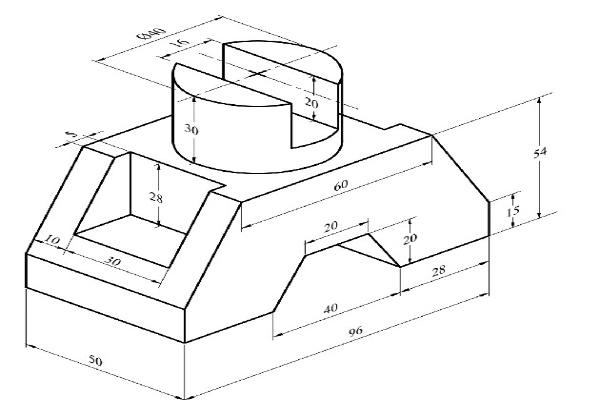dimensions: (127, 20, 175, 42), (340, 322, 370, 346), (78, 350, 113, 369), (314, 299, 345, 319), (428, 261, 453, 283), (99, 252, 125, 271), (503, 204, 528, 223), (56, 124, 82, 142), (143, 188, 166, 208), (529, 144, 551, 164), (166, 37, 193, 53), (331, 178, 356, 195), (318, 219, 343, 235), (401, 231, 421, 250), (184, 120, 202, 139), (42, 231, 64, 246), (305, 93, 322, 112)
